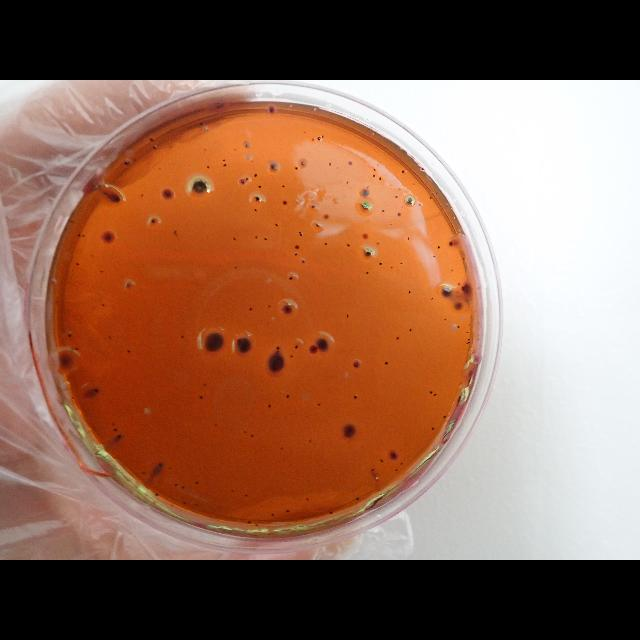colony: (104, 185, 130, 212), (202, 328, 226, 354), (188, 176, 212, 198), (54, 352, 78, 372), (235, 332, 253, 356), (267, 350, 285, 374), (341, 422, 357, 438), (100, 230, 116, 244), (316, 336, 329, 352), (440, 286, 454, 300), (161, 187, 175, 201), (280, 302, 294, 316), (251, 192, 265, 205), (404, 194, 416, 208), (359, 200, 373, 212), (268, 160, 280, 174), (362, 246, 374, 258), (461, 283, 471, 295), (389, 450, 399, 460), (454, 301, 464, 311), (124, 280, 134, 290), (268, 104, 276, 116), (309, 344, 317, 354), (360, 190, 370, 198), (299, 160, 307, 168), (353, 360, 359, 370), (116, 434, 124, 441), (240, 178, 247, 186), (362, 232, 368, 240), (93, 388, 101, 394), (123, 159, 129, 167), (158, 462, 165, 468), (448, 241, 454, 247), (294, 244, 300, 250), (150, 218, 156, 224), (152, 144, 158, 150), (294, 344, 298, 350), (354, 496, 360, 500), (397, 212, 401, 218), (324, 214, 328, 220), (302, 258, 306, 264), (142, 470, 146, 476), (385, 360, 389, 366), (354, 394, 358, 400), (348, 160, 352, 166), (282, 200, 286, 206), (258, 184, 262, 190), (254, 172, 258, 178), (149, 138, 155, 142), (317, 136, 321, 142), (199, 394, 203, 400), (276, 346, 280, 350), (286, 394, 290, 398), (250, 434, 254, 438), (174, 483, 178, 487), (155, 492, 159, 496), (181, 486, 185, 490), (286, 509, 290, 513), (380, 459, 384, 463), (408, 290, 412, 294), (372, 174, 376, 178), (312, 205, 316, 209), (316, 223, 320, 227), (346, 243, 350, 247), (294, 252, 298, 256), (263, 237, 267, 241), (275, 223, 279, 227), (75, 262, 79, 266), (180, 335, 184, 339), (127, 350, 131, 354), (108, 336, 112, 340), (74, 347, 78, 351), (114, 428, 118, 432), (112, 422, 116, 426), (183, 501, 187, 505), (247, 520, 251, 524), (328, 162, 332, 166), (294, 166, 298, 170), (254, 208, 258, 212), (222, 158, 226, 162), (199, 122, 203, 126), (289, 276, 293, 280), (233, 265, 237, 269), (68, 334, 72, 338), (101, 303, 105, 307), (230, 489, 233, 493), (401, 261, 404, 265), (324, 242, 328, 245), (168, 466, 172, 469), (346, 314, 349, 318), (346, 180, 348, 186), (396, 336, 399, 340), (290, 354, 292, 358), (268, 404, 270, 408), (196, 480, 198, 484), (272, 513, 274, 517), (305, 498, 309, 500), (372, 468, 374, 472), (394, 469, 398, 471), (444, 415, 446, 419), (432, 427, 434, 431), (433, 394, 437, 396), (468, 324, 472, 326), (466, 342, 470, 344), (444, 318, 446, 322), (458, 282, 460, 286), (380, 262, 382, 266), (438, 245, 440, 249), (432, 256, 436, 258), (394, 196, 398, 198), (418, 204, 422, 206), (402, 170, 404, 174), (374, 168, 376, 172), (379, 177, 381, 181), (298, 231, 302, 233), (255, 235, 257, 239), (78, 234, 80, 238), (82, 234, 84, 238), (72, 347, 74, 351), (408, 237, 410, 241), (246, 177, 248, 181), (224, 163, 226, 167), (206, 166, 210, 168), (250, 307, 252, 311), (410, 328, 412, 332), (215, 422, 217, 426), (204, 383, 206, 387), (256, 524, 258, 528), (245, 494, 248, 496), (430, 391, 432, 394), (456, 326, 459, 328), (466, 331, 468, 334), (391, 267, 394, 269), (430, 197, 432, 200), (446, 205, 448, 208), (195, 504, 198, 506), (282, 185, 284, 188), (244, 431, 246, 434), (318, 404, 320, 406), (330, 512, 332, 514), (400, 462, 402, 464), (468, 339, 470, 341), (431, 298, 433, 300), (366, 272, 368, 274), (382, 210, 384, 212), (367, 186, 369, 188), (300, 234, 302, 236), (234, 238, 236, 240), (322, 136, 324, 138), (437, 192, 438, 194)
